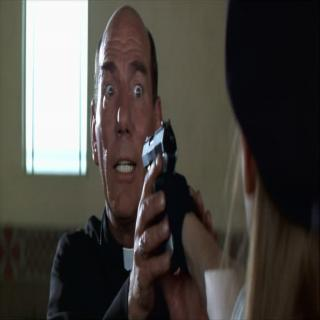gun: (135, 114, 210, 288)
